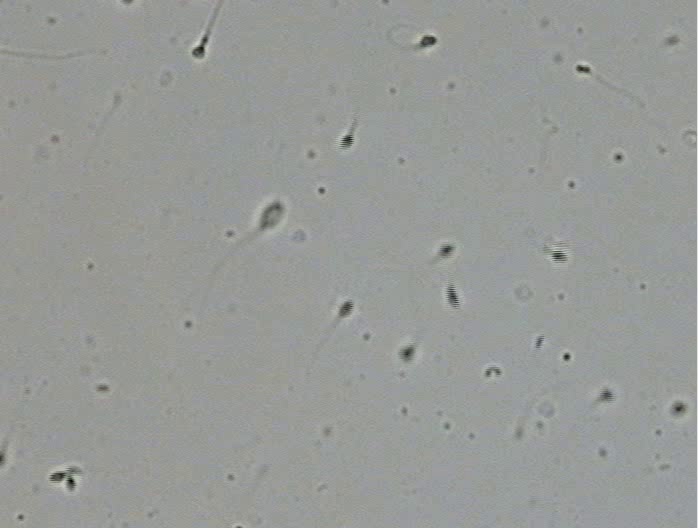S: (258, 201, 284, 229), (446, 286, 460, 308), (419, 35, 438, 48), (339, 134, 354, 150), (339, 300, 353, 317), (399, 346, 414, 361), (599, 388, 614, 403), (551, 250, 568, 263), (48, 471, 66, 483), (192, 45, 206, 59), (672, 402, 686, 416), (64, 476, 76, 492), (438, 245, 454, 257), (576, 64, 590, 74), (1, 452, 5, 466)
